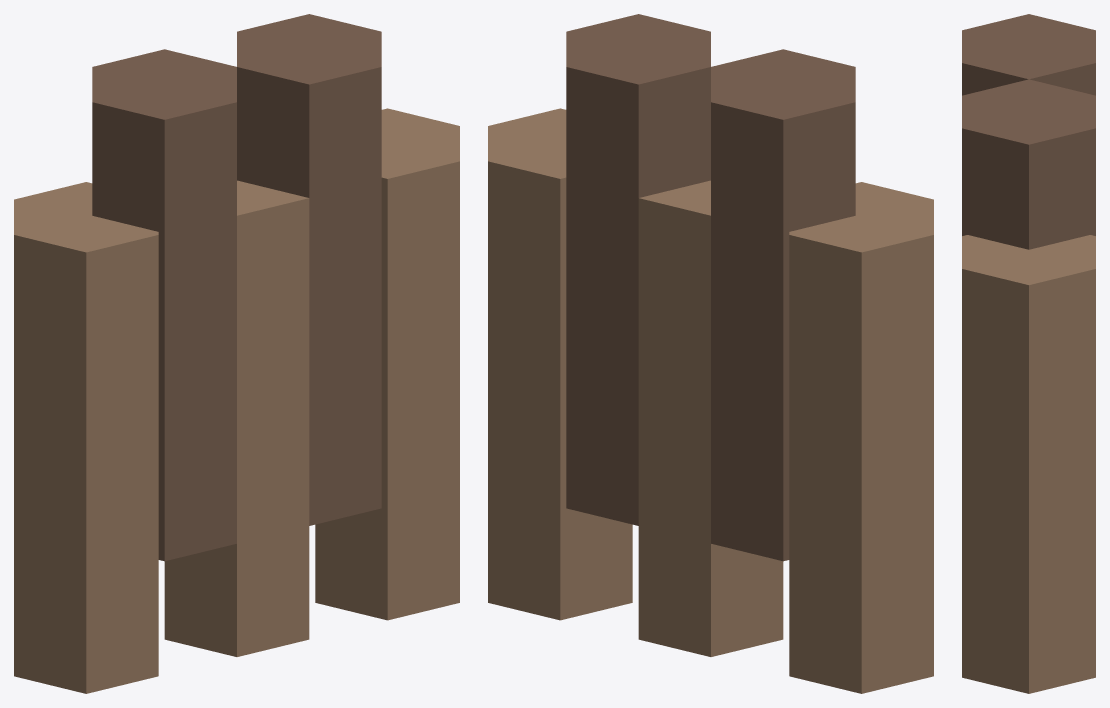
The model's file is haunted_firewood_small.glb.
3 views of the same model, side by side, from view 1: azimuth 30°, elevation 25°; view 2: azimuth 150°, elevation 25°; view 3: azimuth 270°, elevation 25° (orthographic). The views are drawn at different scales.
Parts seen in each view (by area): view 1: Haunted_Firewood_Small; view 2: Haunted_Firewood_Small; view 3: Haunted_Firewood_Small.
Part boxes in pixels (<box>): Haunted_Firewood_Small: <box>14,14,459,693</box>; Haunted_Firewood_Small: <box>488,14,933,693</box>; Haunted_Firewood_Small: <box>962,14,1095,693</box>.
Bounding box in the file's own units: 0.74 × 0.88 × 0.2078.
